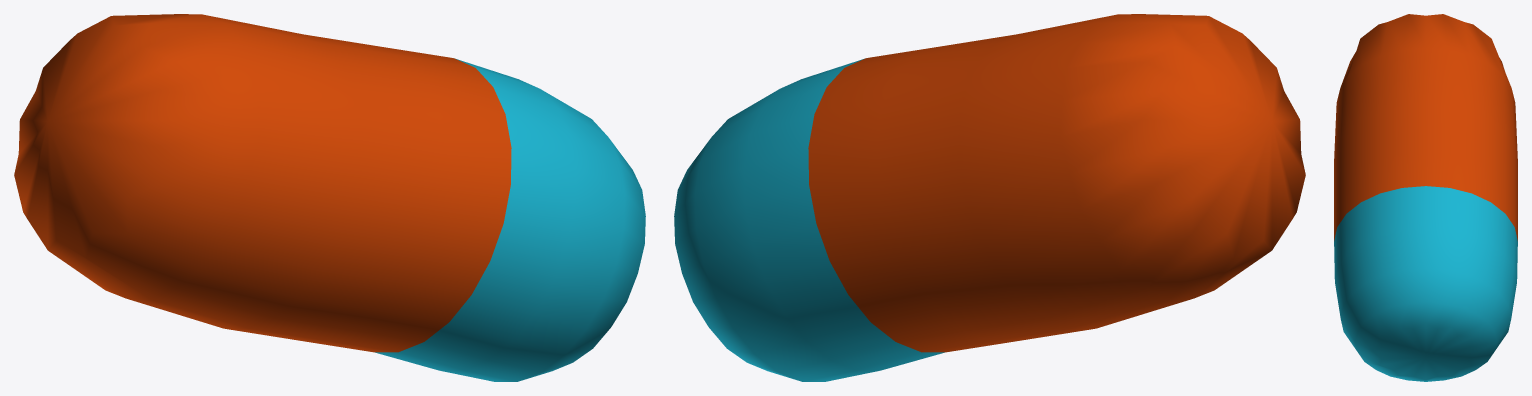
3 renders of one model, left to right at view 1: azimuth 30°, elevation 25°; view 2: azimuth 150°, elevation 25°; view 3: azimuth 270°, elevation 25°, orthographic. The views are drawn at different scales.
Visible parts, largest first — view 1: Cylinder.056; view 2: Cylinder.056; view 3: Cylinder.056.
Boxes of the visible parts, x1,y1,x2,y2 form: Cylinder.056: (14,14,645,381); Cylinder.056: (674,14,1305,381); Cylinder.056: (1334,14,1517,381).
Size of the model in its own units: 0.2746 by 0.1936 by 0.1248.
